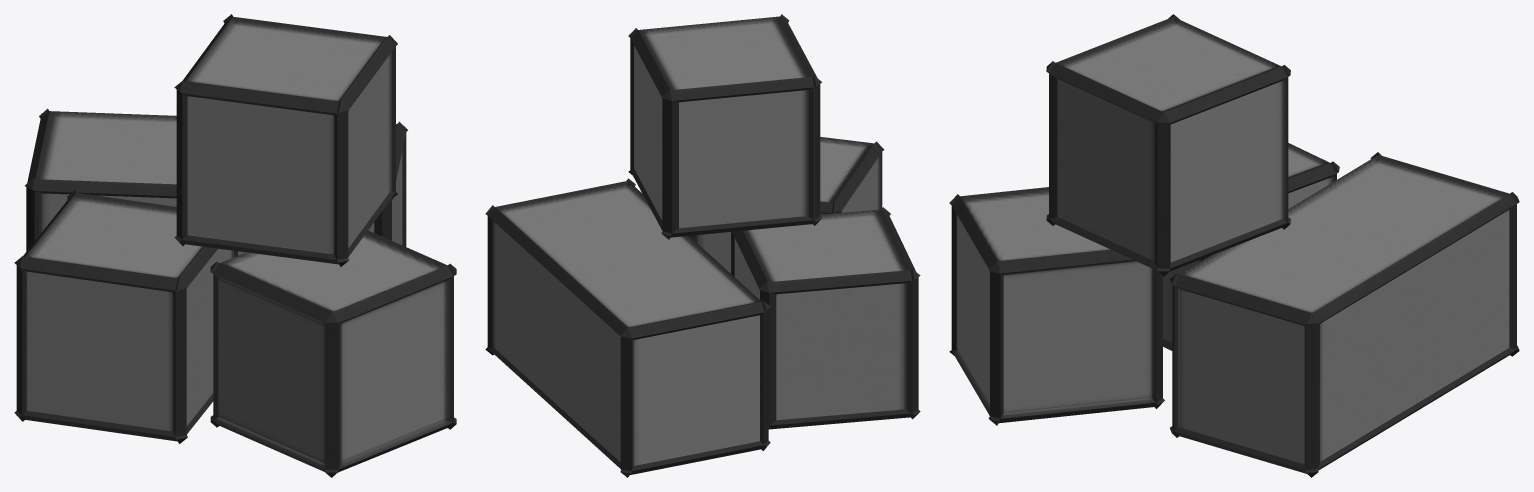
The model's file is Storage_Crates_06.fbx.
3 renders of one model, left to right at view 1: azimuth 30°, elevation 25°; view 2: azimuth 150°, elevation 25°; view 3: azimuth 270°, elevation 25°, orthographic. The views are drawn at different scales.
Parts seen in each view (by area): view 1: Storage_Crates_06; view 2: Storage_Crates_06; view 3: Storage_Crates_06.
Boxes of the visible parts, x1,y1,x2,y2 form: Storage_Crates_06: (14, 14, 456, 477); Storage_Crates_06: (485, 14, 920, 477); Storage_Crates_06: (949, 14, 1519, 477).
Size of the model in its own units: 729 by 529 by 840.
